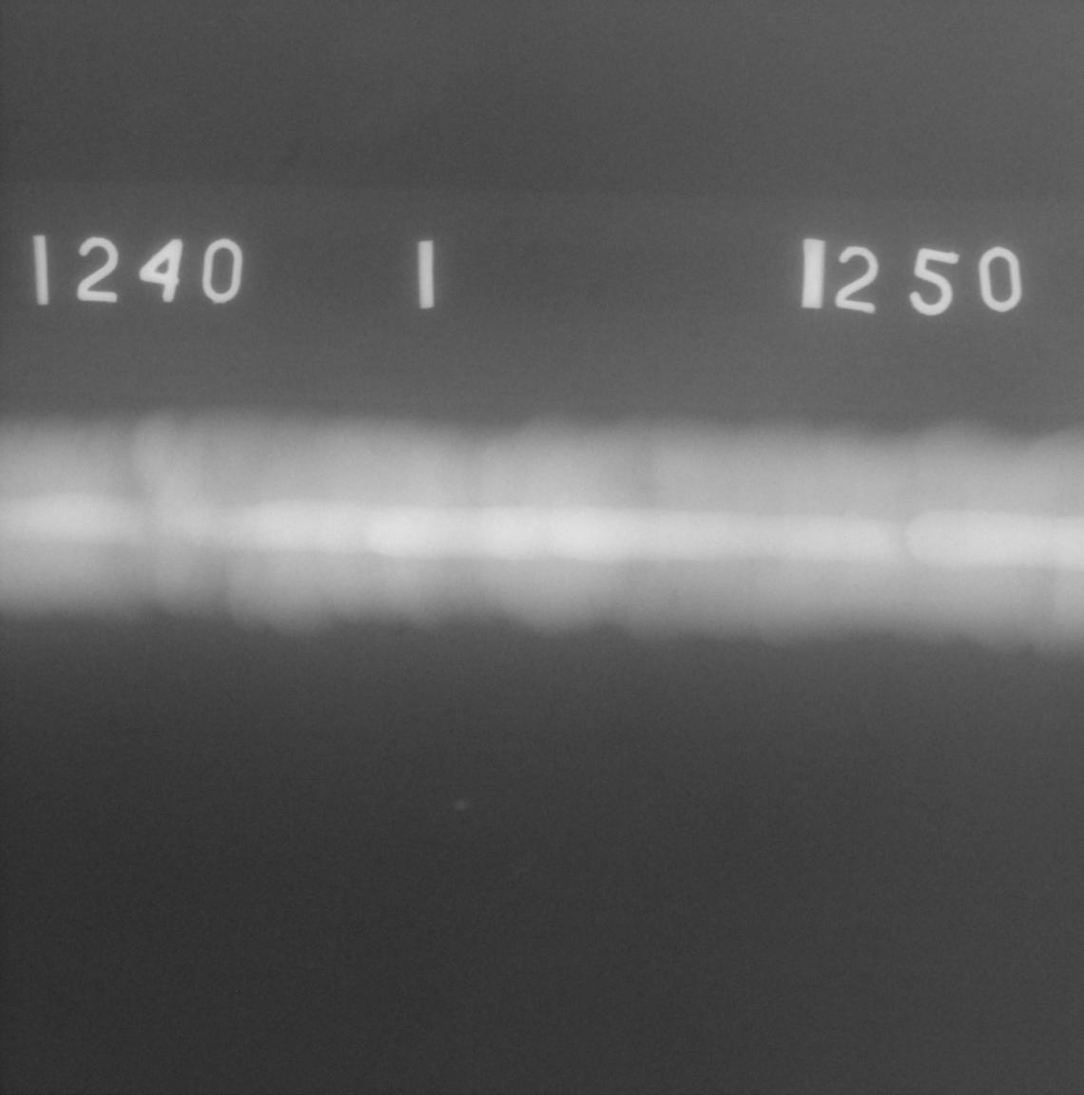Inclusion: (640, 486, 658, 492)
